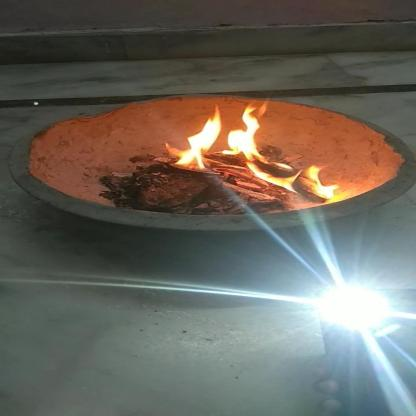fire: (172, 104, 224, 179), (244, 159, 342, 198), (223, 100, 265, 160)
